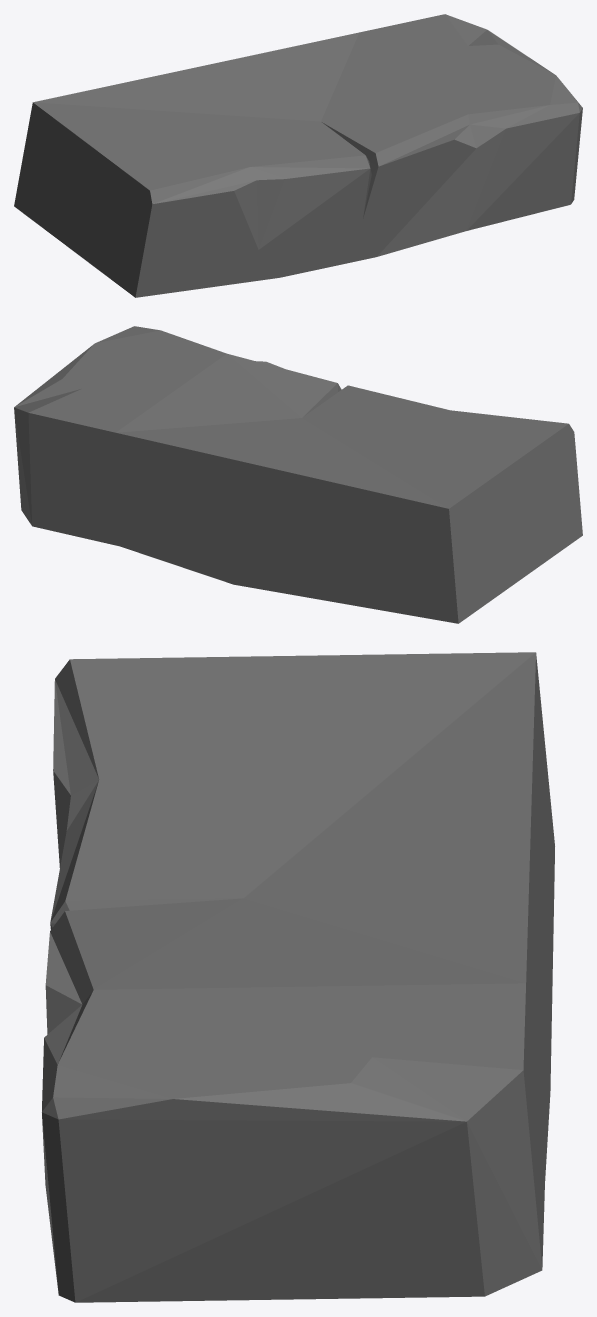
The model's file is rock_005.glb.
The picture shows the model from 3 angles, top to bottom: view 1: azimuth 30°, elevation 25°; view 2: azimuth 150°, elevation 25°; view 3: azimuth 270°, elevation 25°; orthographic projection. The views are drawn at different scales.
Visible parts, largest first — view 1: rock_005; view 2: rock_005; view 3: rock_005.
Part boxes in pixels (x1,y1,x2,y2): rock_005: (14, 14, 582, 297); rock_005: (14, 326, 582, 623); rock_005: (42, 652, 554, 1302).
Size of the model in its own units: 42.78 by 11.25 by 21.07.
Materials: 1 (1 with a texture image).
